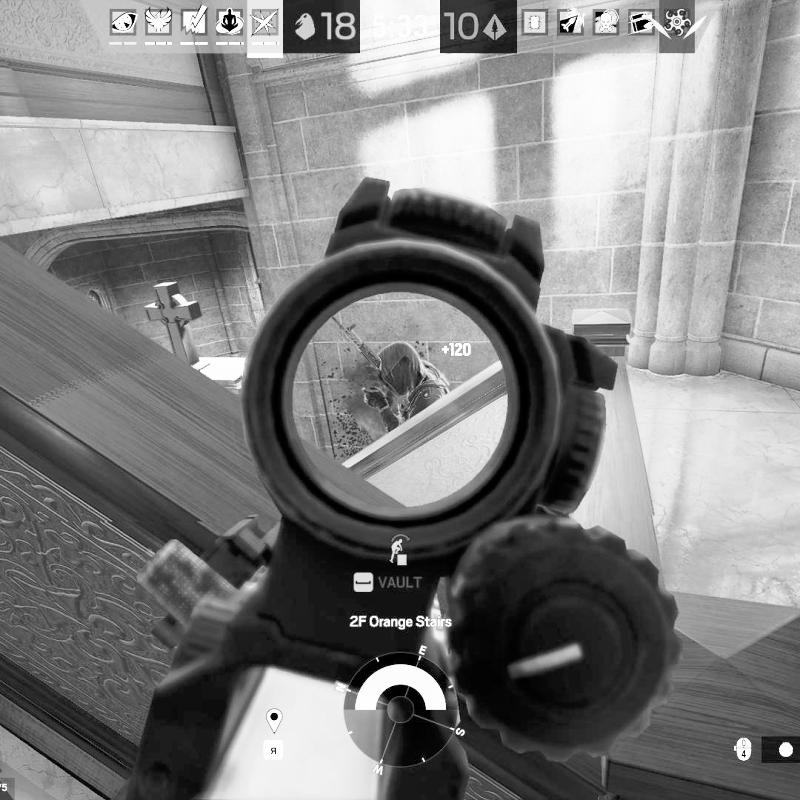Character: (364, 339, 446, 433)
Head: (380, 342, 423, 395)
